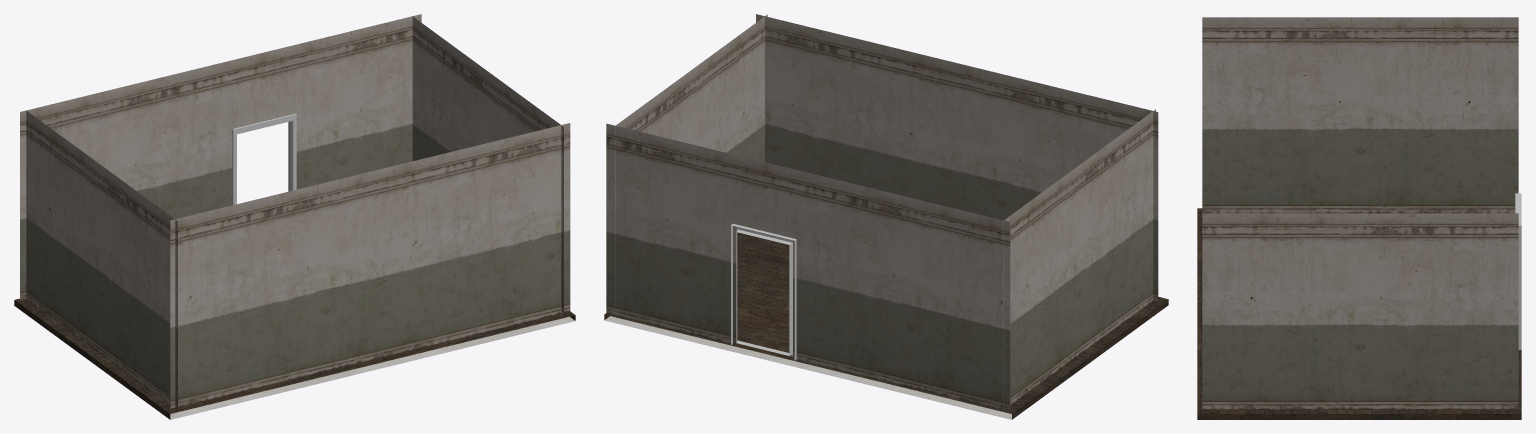
File: room_6m_x_9m_sideroom_door_left.fbx
The picture shows the model from 3 angles, left to right: view 1: azimuth 30°, elevation 25°; view 2: azimuth 150°, elevation 25°; view 3: azimuth 270°, elevation 25°; orthographic projection. The views are drawn at different scales.
Parts seen in each view (by area): view 1: room_6m_x_9m_sideroom_door_left; view 2: room_6m_x_9m_sideroom_door_left; view 3: room_6m_x_9m_sideroom_door_left.
Part boxes in pixels (x1,y1,x2,y2): room_6m_x_9m_sideroom_door_left: [14, 14, 575, 419]; room_6m_x_9m_sideroom_door_left: [604, 14, 1168, 419]; room_6m_x_9m_sideroom_door_left: [1197, 17, 1521, 419].
Size of the model in its own units: 900 by 412 by 600.
